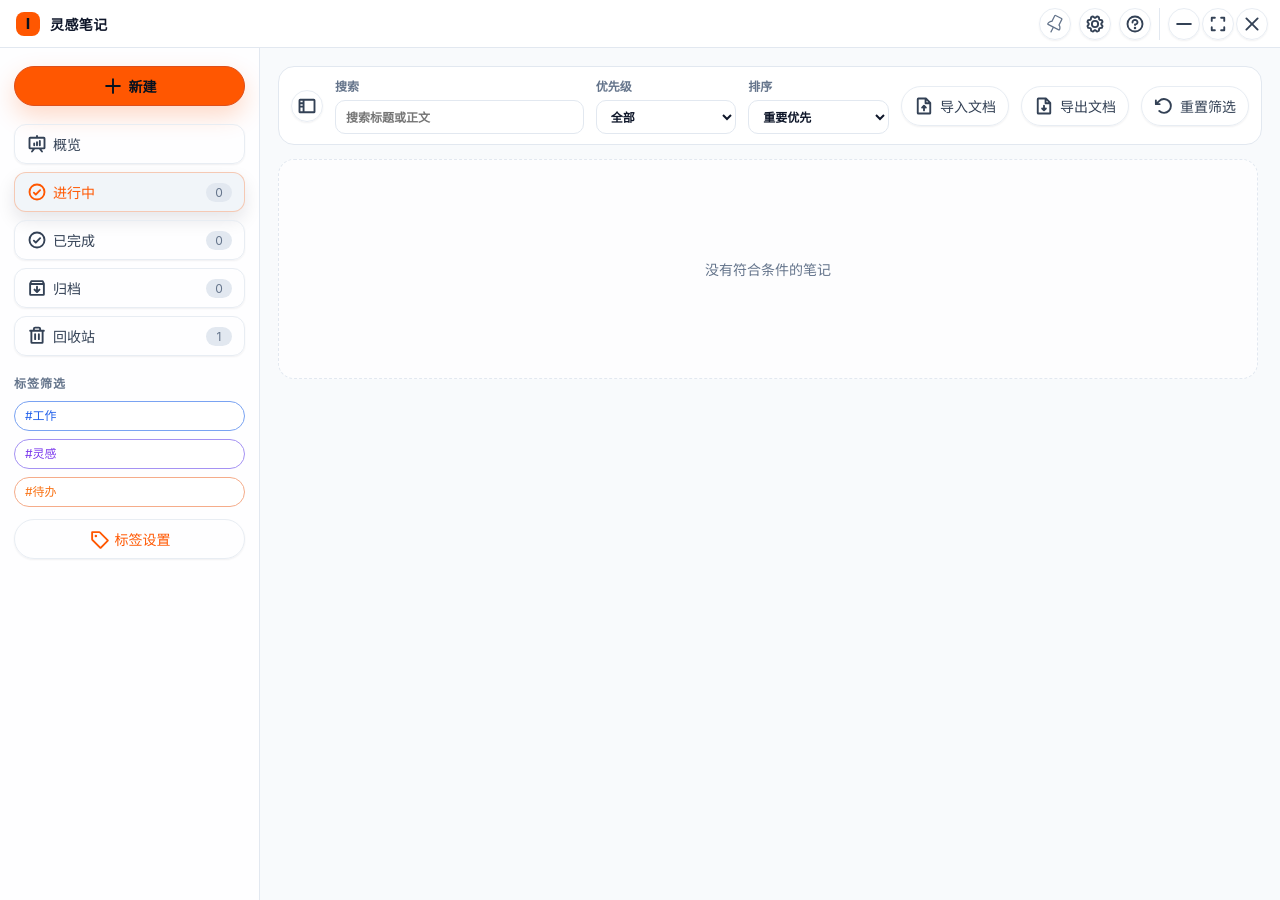
Test: DialogShell › 应用快捷键中 Escape 优先关闭当前确认弹窗
This screenshot has width=1280, height=900.
Click the button "回收站 1" at (130, 336), box [14,316,245,356]
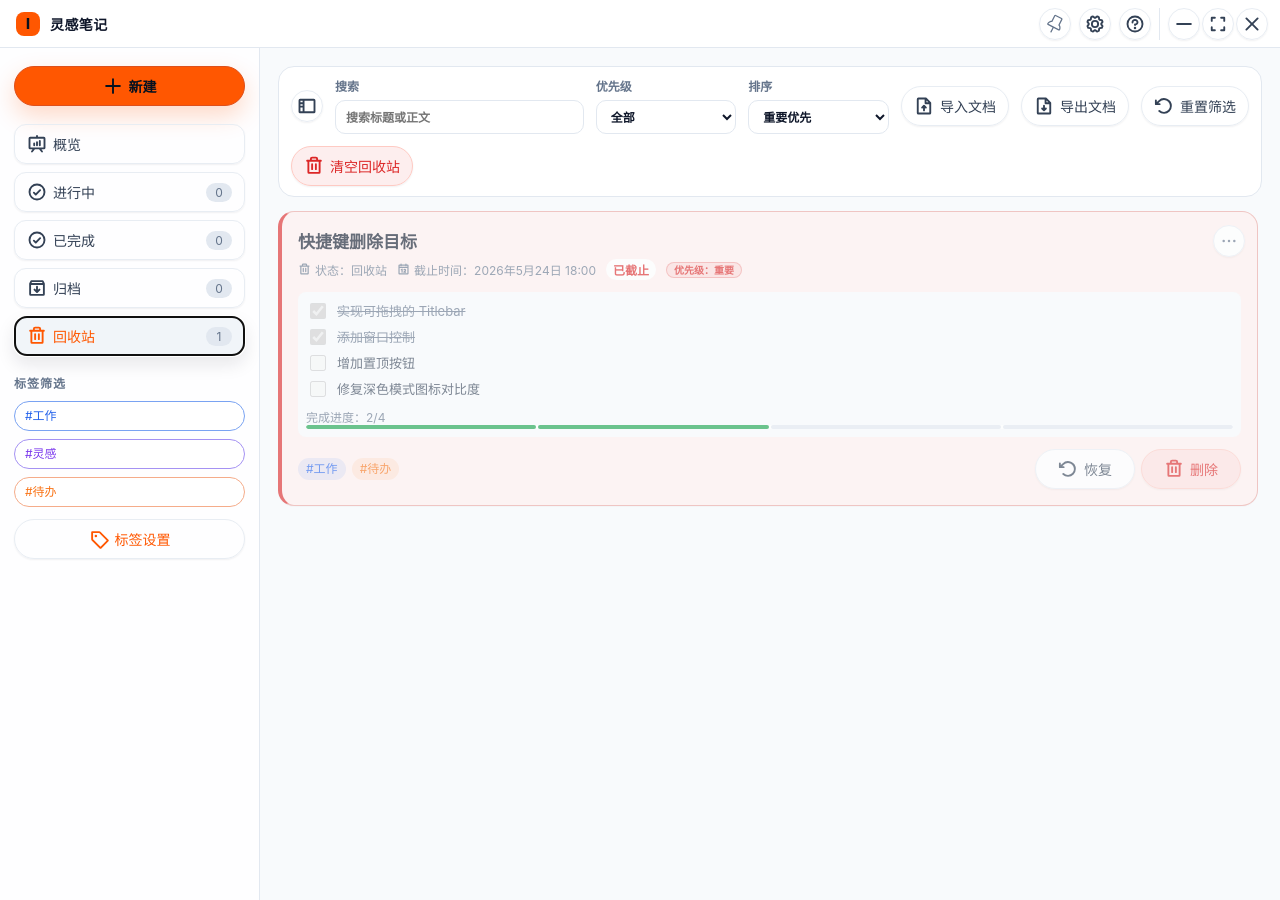
Click the button "删除" at (1191, 469), box [1141,449,1241,489]
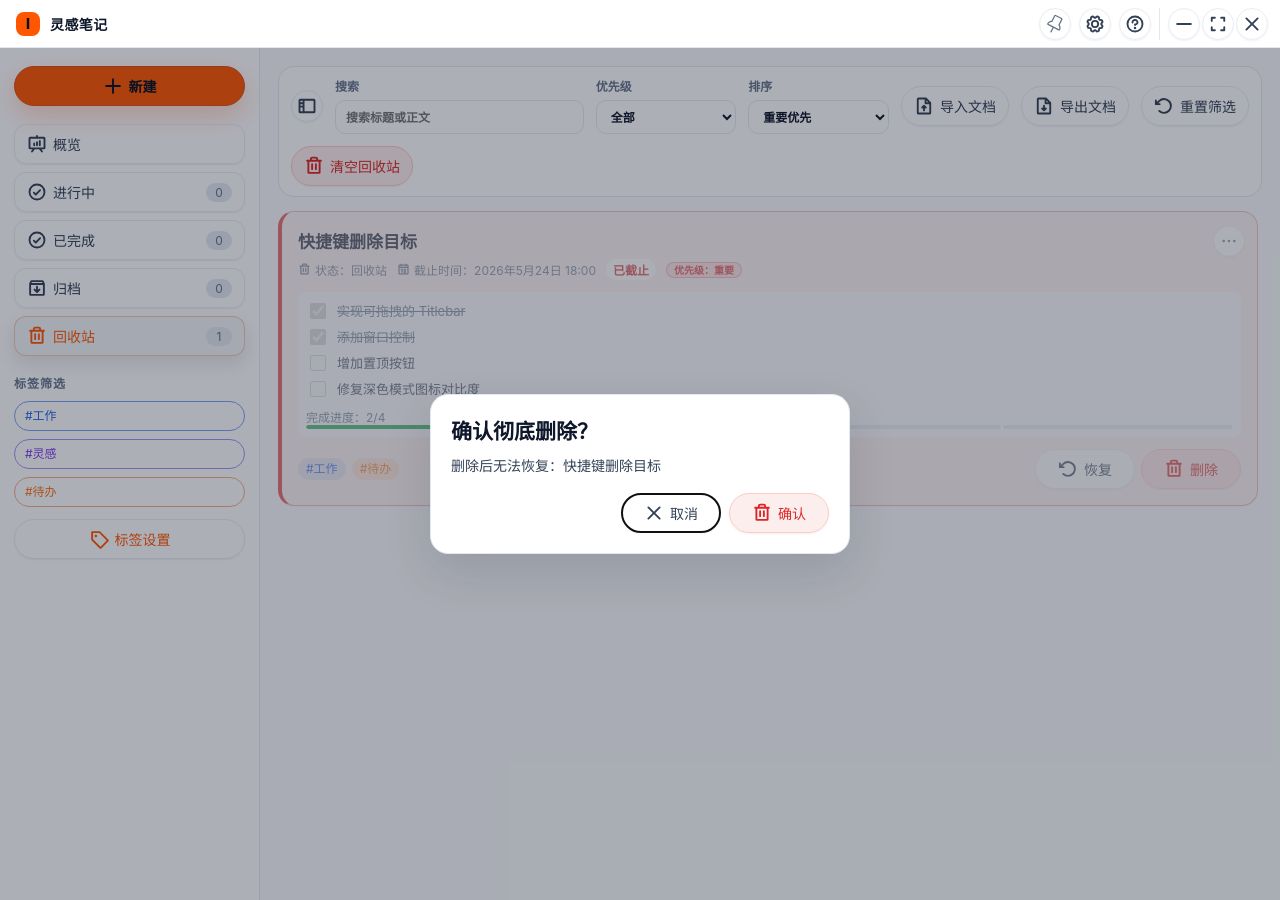
expect the dialog "确认彻底删除？" is shown: met, box [430,394,850,554]
Press Escape
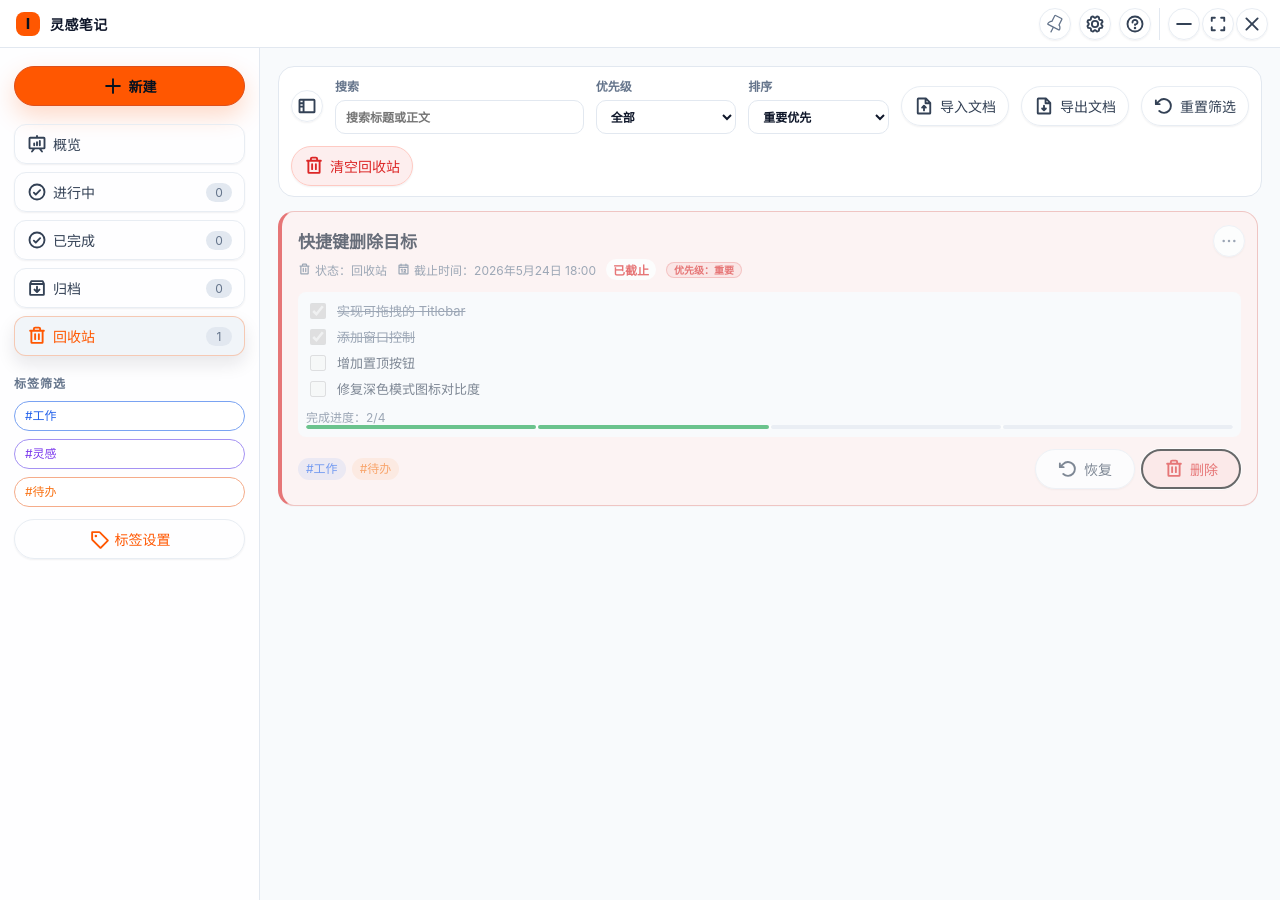
expect the heading "快捷键删除目标" is shown: met, box [298,232,417,252]
expect the heading "确认彻底删除？" is gone: met
